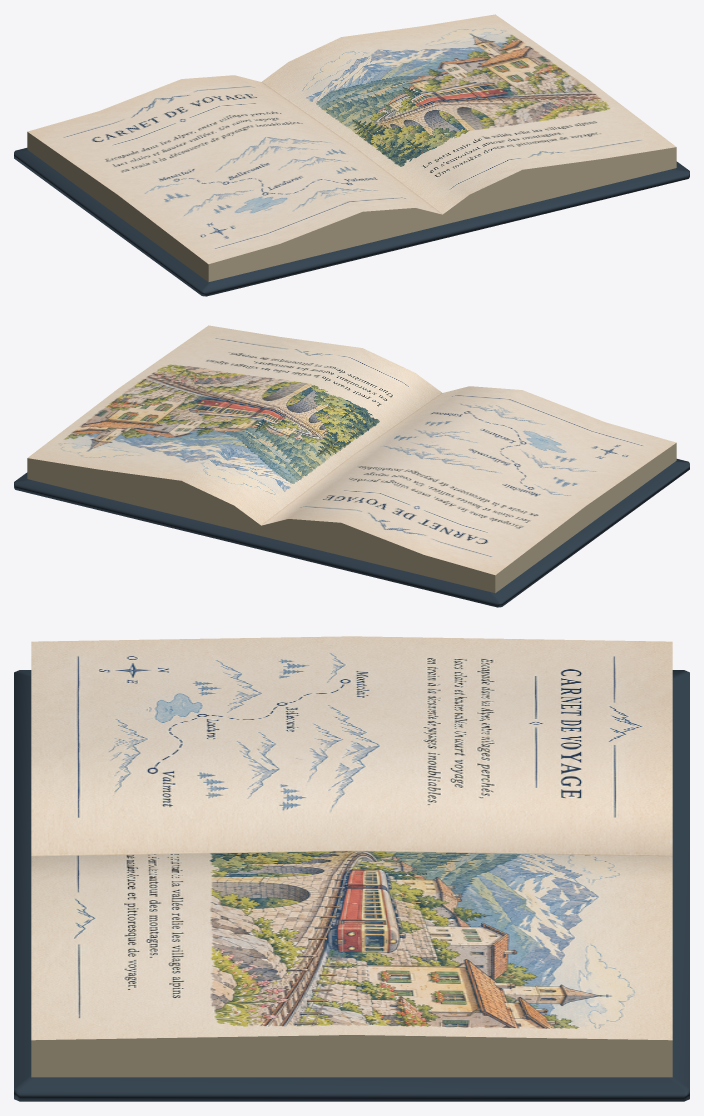
Rendered from open_book.glb.
The picture shows the model from 3 angles, top to bottom: view 1: azimuth 30°, elevation 25°; view 2: azimuth 150°, elevation 25°; view 3: azimuth 270°, elevation 25°; orthographic projection. The views are drawn at different scales.
Visible parts, largest first — view 1: open_book; view 2: open_book; view 3: open_book.
Boxes of the visible parts, <box> form: open_book: <box>14,14,689,296</box>; open_book: <box>14,325,689,607</box>; open_book: <box>14,636,689,1101</box>.
Bounding box in the file's own units: 0.342 × 0.034 × 0.232.
Materials: 2 (1 with a texture image).
